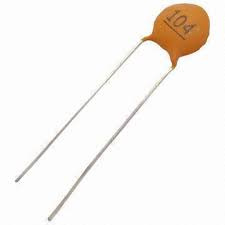ceramic capacitor: (138, 1, 221, 114)
